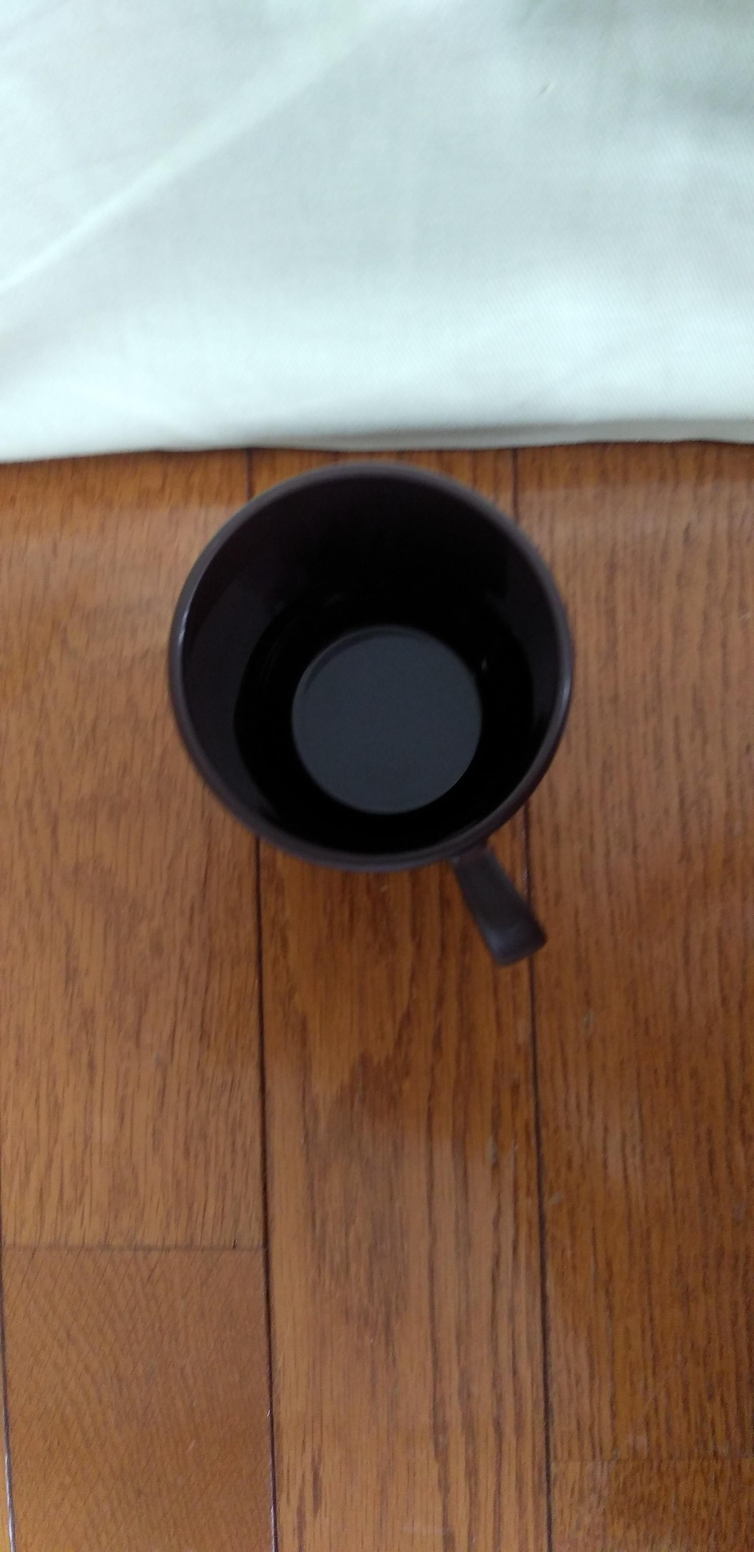mug-real100-3d100: (169, 465, 573, 965)
